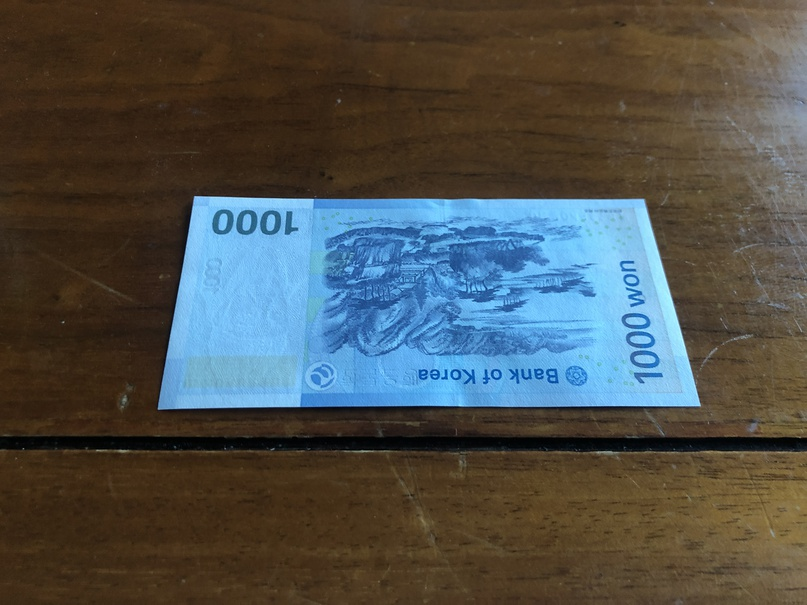1000won: (156, 193, 704, 417)
